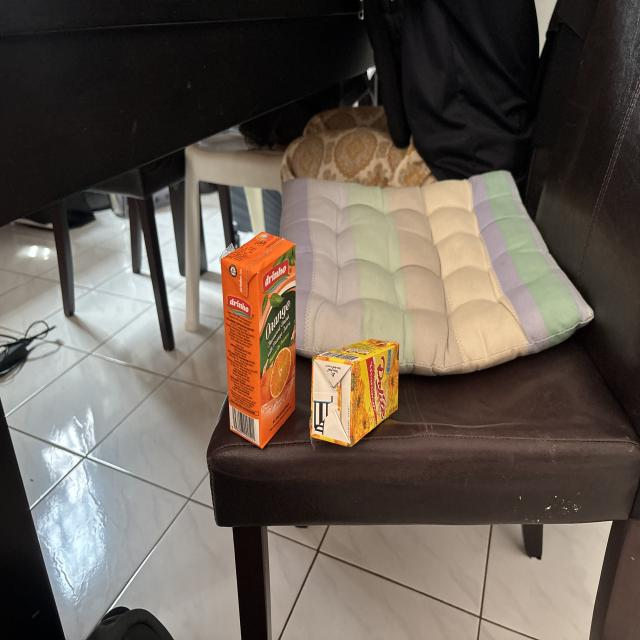drink_carton: (213, 221, 302, 454), (306, 331, 408, 457)
